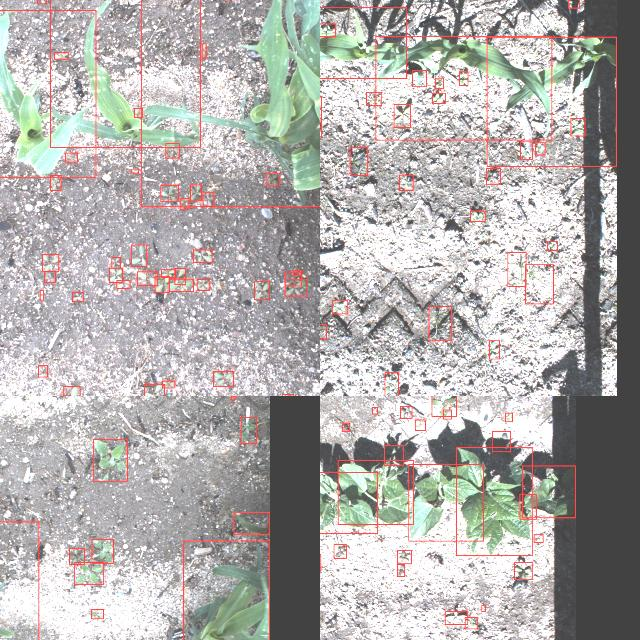crop: (140, 0, 320, 206), (50, 0, 200, 147), (374, 36, 552, 140), (486, 36, 616, 166), (0, 9, 95, 176), (183, 540, 269, 640), (456, 446, 532, 556), (320, 6, 405, 77), (408, 464, 484, 540), (337, 460, 413, 524), (320, 471, 377, 532), (522, 465, 576, 517), (233, 512, 269, 534)
weed: (93, 439, 127, 481), (525, 264, 553, 304), (428, 306, 452, 340), (74, 562, 104, 584), (507, 252, 525, 286), (91, 538, 113, 562), (349, 147, 367, 175), (431, 396, 456, 416), (240, 417, 256, 443), (383, 444, 403, 464), (520, 494, 536, 518), (492, 431, 510, 452), (130, 244, 146, 266), (285, 279, 307, 295), (393, 104, 409, 126), (168, 278, 192, 292), (384, 372, 398, 396), (444, 610, 468, 624), (213, 370, 233, 386), (254, 281, 270, 299), (160, 184, 178, 200), (514, 562, 532, 578), (136, 271, 156, 285), (42, 253, 58, 270), (144, 383, 164, 396), (68, 548, 84, 564), (571, 117, 585, 135), (192, 249, 212, 261), (154, 275, 168, 291), (285, 271, 301, 285), (165, 142, 179, 158), (331, 299, 347, 313), (399, 174, 413, 190), (486, 167, 500, 183), (412, 70, 426, 86), (520, 141, 532, 159), (108, 268, 122, 282), (366, 91, 380, 105), (320, 23, 335, 36), (396, 550, 412, 562), (265, 172, 279, 185), (489, 340, 499, 358), (63, 385, 79, 396), (202, 192, 214, 206), (333, 544, 345, 558), (174, 268, 184, 284), (190, 184, 200, 200), (50, 174, 60, 190), (197, 278, 210, 290), (465, 616, 477, 628), (400, 406, 412, 418), (470, 210, 484, 220), (458, 71, 468, 85), (110, 256, 120, 268), (44, 270, 54, 282), (65, 152, 77, 162), (432, 92, 444, 102), (535, 142, 545, 154), (91, 608, 103, 618), (161, 269, 175, 277), (116, 280, 130, 288), (434, 78, 444, 89), (415, 418, 425, 429), (72, 291, 82, 301), (547, 240, 557, 250), (162, 380, 174, 388), (396, 564, 404, 576), (53, 52, 67, 58), (38, 366, 46, 376), (180, 198, 188, 208), (568, 0, 579, 7), (443, 409, 451, 418), (320, 324, 325, 338), (201, 42, 205, 58), (134, 108, 142, 116), (534, 534, 542, 542), (506, 412, 512, 422), (342, 422, 348, 430), (292, 270, 302, 274), (481, 604, 485, 612), (372, 406, 376, 414), (36, 0, 45, 3), (40, 290, 42, 300), (230, 396, 236, 399), (130, 170, 138, 172)
